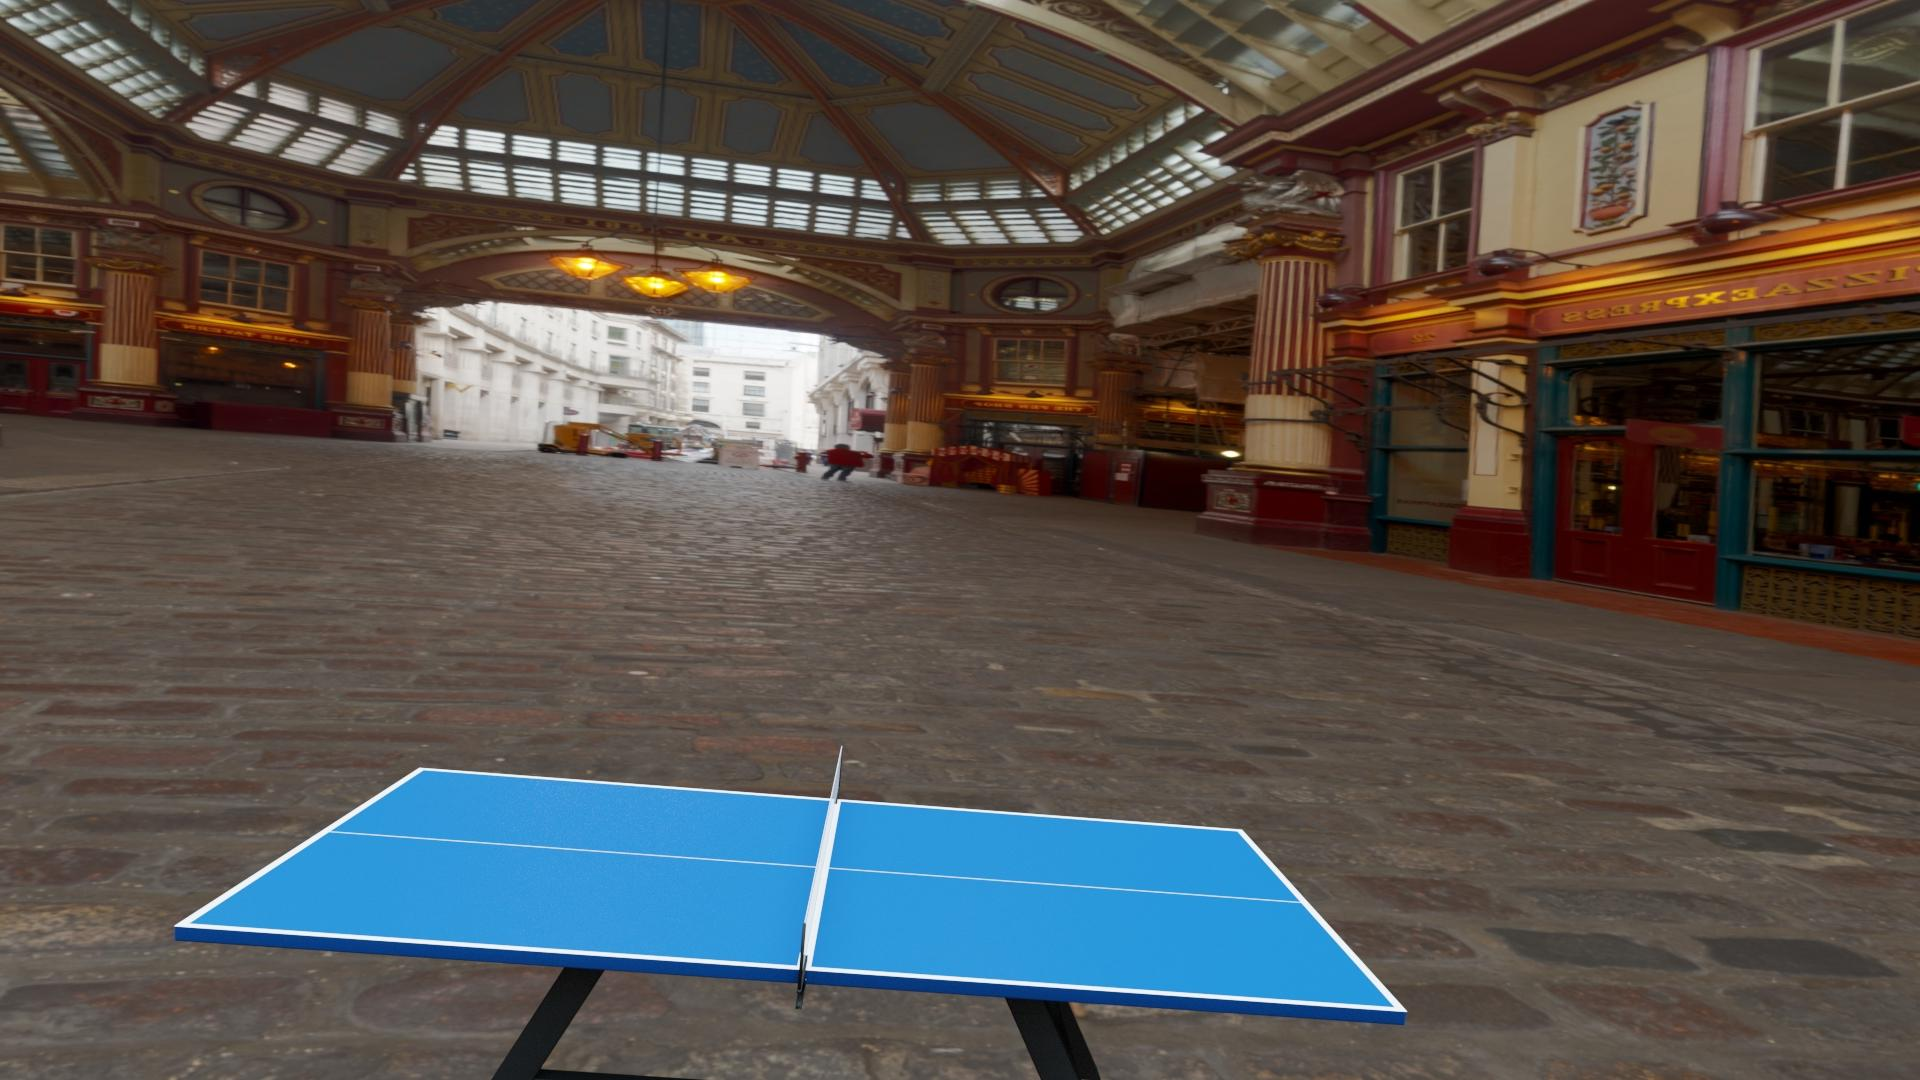table: (188, 770, 1395, 1008)
